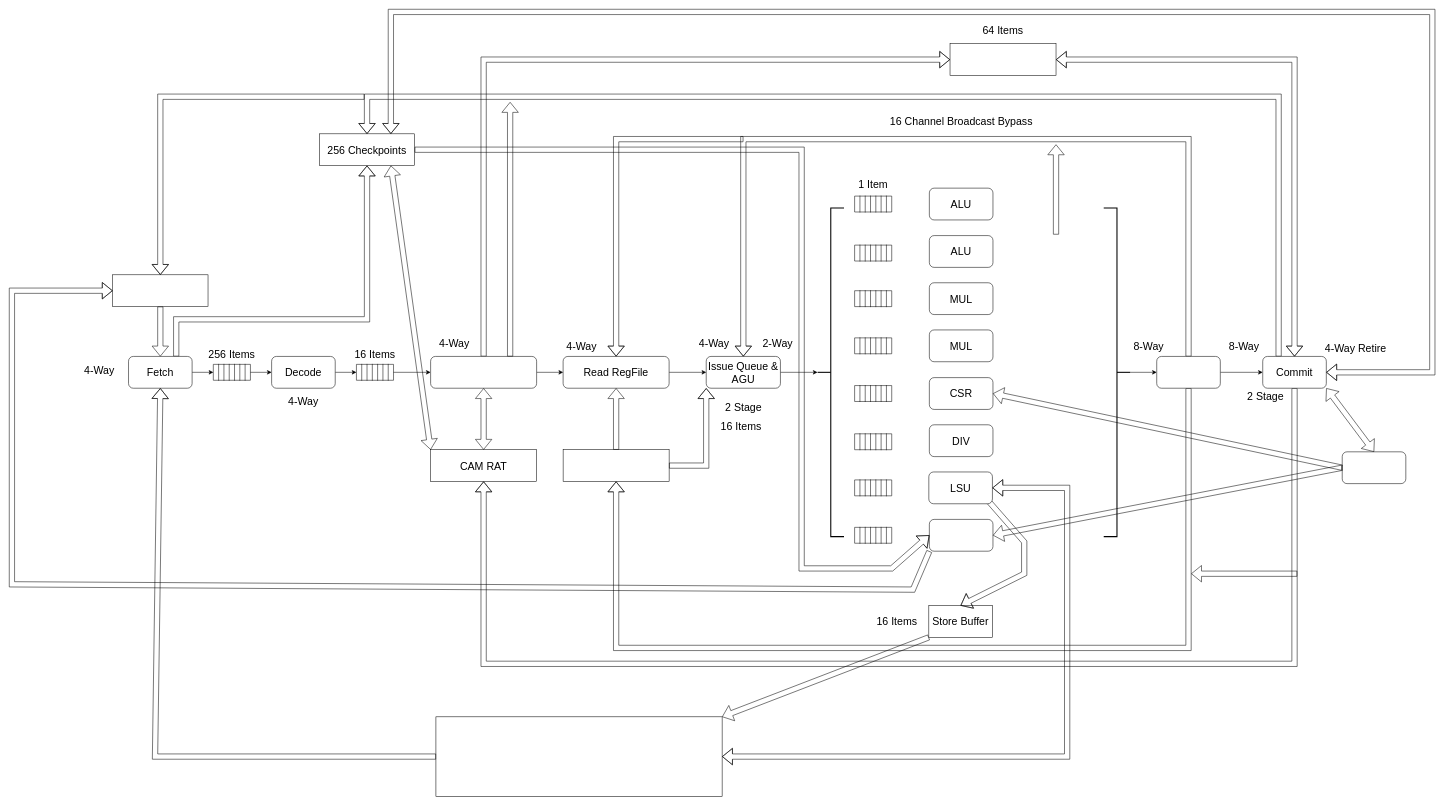
Image size: 1444x806. Some labels were removed from this diagram. The shapes that lost their labels are listed below. From the top down, each one's centre as x and y in pixels, then its label:
At pixel 1002 59: "ROB".
At pixel 160 290: "GShare + Local".
At pixel 483 372: "Register Rename & Get Read Physical ID".
At pixel 1188 372: "WB".
At pixel 616 465: "128 Registers PRF".
At pixel 1374 467: "CSR File".
At pixel 961 535: "BRU".
At pixel 578 756: "TCM".
